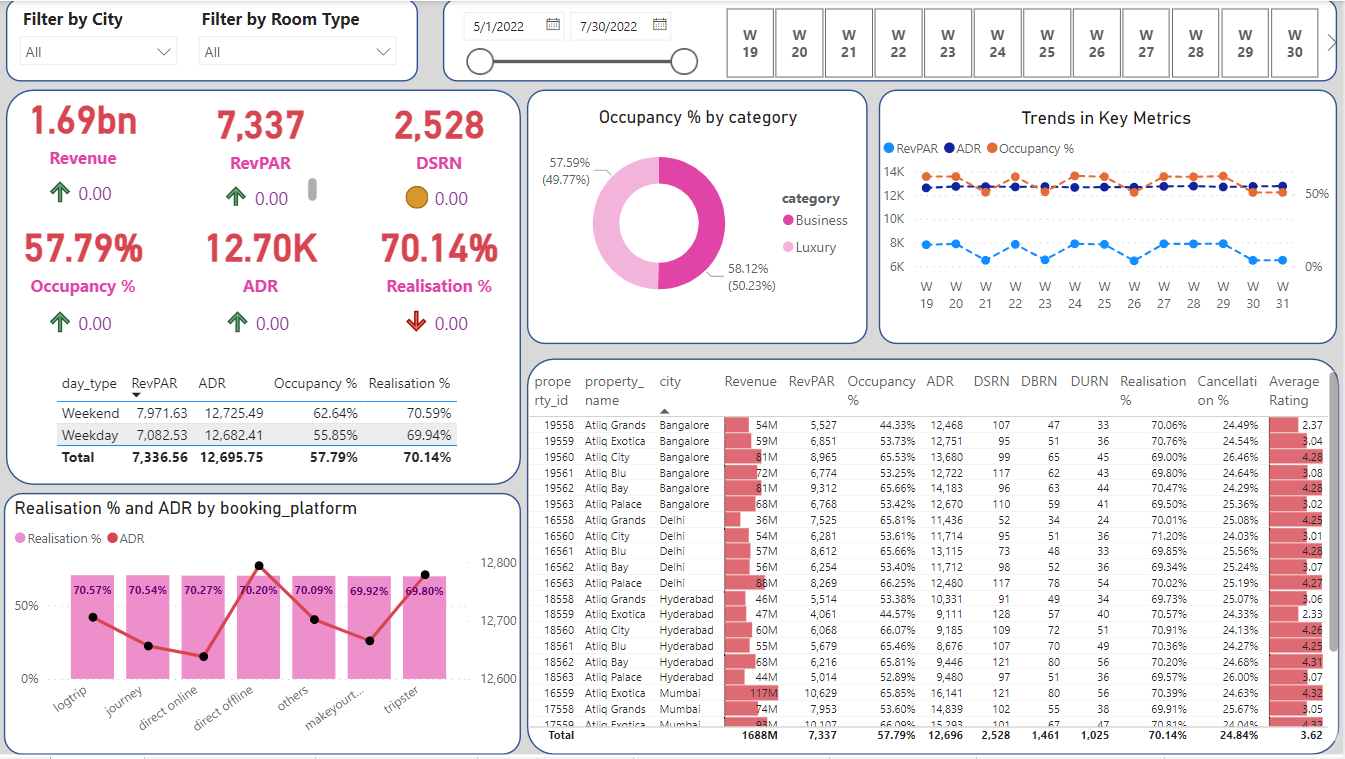

This screenshot's page, from the dashboard's own definition file:
{"tool":"powerbi","page":{"name":"Page 1","canvas":[1280,720],"ordinal":0},"visuals":[{"type":"tableEx","fields":{"Values":["dim_hotels.property_id","dim_hotels.property_name","dim_hotels.city","key_measures.Revenue","key_measures.RevPAR","key_measures.Occupancy %","key_measures.ADR","key_measures.DSRN","key_measures.DBRN","key_measures.DURN","key_measures.Realisation %","key_measures.Cancellation %"]},"box":[498.6,347.1,781.4,362.9],"z":0},{"type":"slicer","fields":{"Values":["dim_hotels.city"]},"box":[10,0,170,80],"z":1000},{"type":"slicer","fields":{"Values":["dim_rooms.room_class"]},"box":[180,0,208.6,80],"z":2000},{"type":"slicer","fields":{"Values":["dim_date.mmm yy"]},"box":[430,0,243.8,76.2],"z":3000},{"type":"slicer","fields":{"Values":["dim_date.week no"]},"box":[666.2,0,613.8,80],"z":4000},{"type":"card","fields":{"Values":["key_measures.Revenue"]},"box":[0,75.7,160,88.4],"z":5000,"group":"g1"},{"type":"donutChart","fields":{"Category":["dim_hotels.category"],"Y":["key_measures.Occupancy %"]},"box":[507.1,100,317.1,204.3],"z":5000},{"type":"lineChart","title":"Trends in Key Metrics","fields":{"Category":["dim_date.mmm yy.Variation.Date Hierarchy.Month","dim_date.week no"],"Y":["key_measures.RevPAR","key_measures.ADR"],"Y2":["key_measures.Occupancy %"]},"box":[836.2,101.2,435,202.5],"z":6000},{"type":"pivotTable","fields":{"Values":["key_measures.Revenue WoW change %"]},"box":[21.2,157.5,117.5,40.4],"z":6000,"group":"g1"},{"type":"tableEx","fields":{"Values":["dim_date.day_type","key_measures.RevPAR","key_measures.ADR","key_measures.Occupancy %","key_measures.Realisation %"]},"box":[49.3,347.3,400.4,103.7],"z":7000,"group":"g8"},{"type":"card","fields":{"Values":["key_measures.RevPAR"]},"box":[169.4,80,160,88.4],"z":8000,"group":"g2"},{"type":"lineStackedColumnComboChart","fields":{"Category":["fact_bookings.booking_platform"],"Y":["key_measures.Realisation %"],"Y2":["key_measures.ADR"]},"box":[10,472.9,488.6,237.1],"z":8000},{"type":"group","id":"g1","title":"Group 1","box":[0,75.7,160,122.2],"z":9000,"group":"g7"},{"type":"card","fields":{"Values":["key_measures.DSRN"]},"box":[338.9,80,160,88.4],"z":9000,"group":"g3"},{"type":"group","id":"g2","title":"Group 2","box":[169.4,80,160,118.4],"z":10000,"group":"g7"},{"type":"pivotTable","fields":{"Values":["key_measures.Revpar WoW change %"]},"box":[190.6,161.8,117.5,36.7],"z":10000,"group":"g2"},{"type":"group","id":"g3","title":"Group 3","box":[338.9,80,160,122.2],"z":11000,"group":"g7"},{"type":"pivotTable","fields":{"Values":["key_measures.DSRN WoW change %"]},"box":[360.1,161.8,117.5,40.4],"z":11000,"group":"g3"},{"type":"group","id":"g4","title":"Group 4","box":[0.1,198.4,160,123.1],"z":12000,"group":"g7"},{"type":"card","fields":{"Values":["key_measures.Occupancy %"]},"box":[0.1,198.4,160,88.4],"z":12000,"group":"g4"},{"type":"group","id":"g5","title":"Group 5","box":[169.5,198.4,160,124.1],"z":13000,"group":"g7"},{"type":"card","fields":{"Values":["key_measures.ADR"]},"box":[169.5,198.4,160,88.4],"z":13000,"group":"g5"},{"type":"group","id":"g6","title":"Group 6","box":[338.9,198.4,160,123.1],"z":14000,"group":"g7"},{"type":"card","fields":{"Values":["key_measures.Realisation %"]},"box":[338.9,198.4,160,88.4],"z":14000,"group":"g6"},{"type":"group","id":"g7","title":"Group 7","box":[0,75.7,498.9,246.8],"z":14001,"group":"g8"},{"type":"group","id":"g8","title":"Group 8","box":[0,75.7,498.9,375.3],"z":14002},{"type":"pivotTable","fields":{"Values":["key_measures.Occupancy WoW change %"]},"box":[21.3,281.1,117.5,40.4],"z":15000,"group":"g4"},{"type":"pivotTable","fields":{"Values":["key_measures.ADR WoW change %"]},"box":[190.7,282.1,117.5,40.4],"z":16000,"group":"g5"},{"type":"pivotTable","fields":{"Values":["key_measures.Realisation WoW change %"]},"box":[360.1,281.1,117.5,40.4],"z":17000,"group":"g6"}]}

Visuals, with their boxes in screenshot pixels (x1, y1, x2, y2), scaled from the page's 1280x720 canvas onto the 1345x759 screenshot:
tableEx - dim_hotels.property_id x dim_hotels.property_name: [x1=524, y1=366, x2=1344, y2=748]
slicer - dim_hotels.city: [x1=11, y1=0, x2=189, y2=84]
slicer - dim_rooms.room_class: [x1=189, y1=0, x2=408, y2=84]
slicer - dim_date.mmm yy: [x1=452, y1=0, x2=708, y2=80]
slicer - dim_date.week no: [x1=700, y1=0, x2=1344, y2=84]
card - key_measures.Revenue: [x1=0, y1=80, x2=168, y2=173]
donutChart - dim_hotels.category x key_measures.Occupancy %: [x1=533, y1=105, x2=866, y2=321]
"Trends in Key Metrics" lineChart: [x1=879, y1=107, x2=1336, y2=320]
pivotTable - key_measures.Revenue WoW change %: [x1=22, y1=166, x2=146, y2=209]
tableEx - dim_date.day_type x key_measures.RevPAR: [x1=52, y1=366, x2=473, y2=475]
card - key_measures.RevPAR: [x1=178, y1=84, x2=346, y2=178]
lineStackedColumnComboChart - fact_bookings.booking_platform x key_measures.Realisation %: [x1=11, y1=499, x2=524, y2=748]
"Group 1" group: [x1=0, y1=80, x2=168, y2=209]
card - key_measures.DSRN: [x1=356, y1=84, x2=524, y2=178]
"Group 2" group: [x1=178, y1=84, x2=346, y2=209]
pivotTable - key_measures.Revpar WoW change %: [x1=200, y1=171, x2=324, y2=209]
"Group 3" group: [x1=356, y1=84, x2=524, y2=213]
pivotTable - key_measures.DSRN WoW change %: [x1=378, y1=171, x2=502, y2=213]
"Group 4" group: [x1=0, y1=209, x2=168, y2=339]
card - key_measures.Occupancy %: [x1=0, y1=209, x2=168, y2=302]
"Group 5" group: [x1=178, y1=209, x2=346, y2=340]
card - key_measures.ADR: [x1=178, y1=209, x2=346, y2=302]
"Group 6" group: [x1=356, y1=209, x2=524, y2=339]
card - key_measures.Realisation %: [x1=356, y1=209, x2=524, y2=302]
"Group 7" group: [x1=0, y1=80, x2=524, y2=340]
"Group 8" group: [x1=0, y1=80, x2=524, y2=475]
pivotTable - key_measures.Occupancy WoW change %: [x1=22, y1=296, x2=146, y2=339]
pivotTable - key_measures.ADR WoW change %: [x1=200, y1=297, x2=324, y2=340]
pivotTable - key_measures.Realisation WoW change %: [x1=378, y1=296, x2=502, y2=339]
